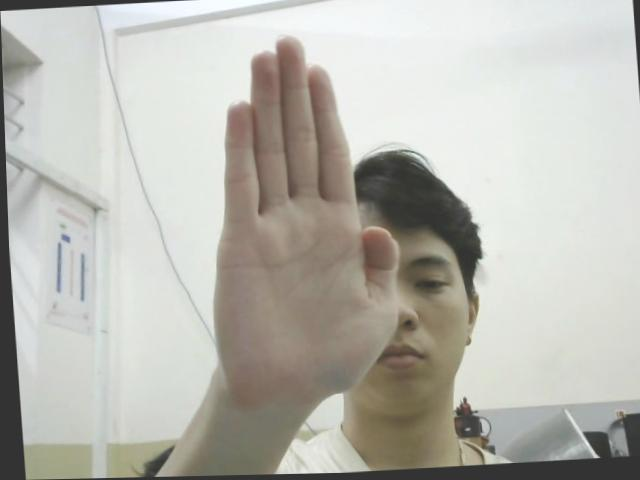B: (190, 28, 407, 409)
